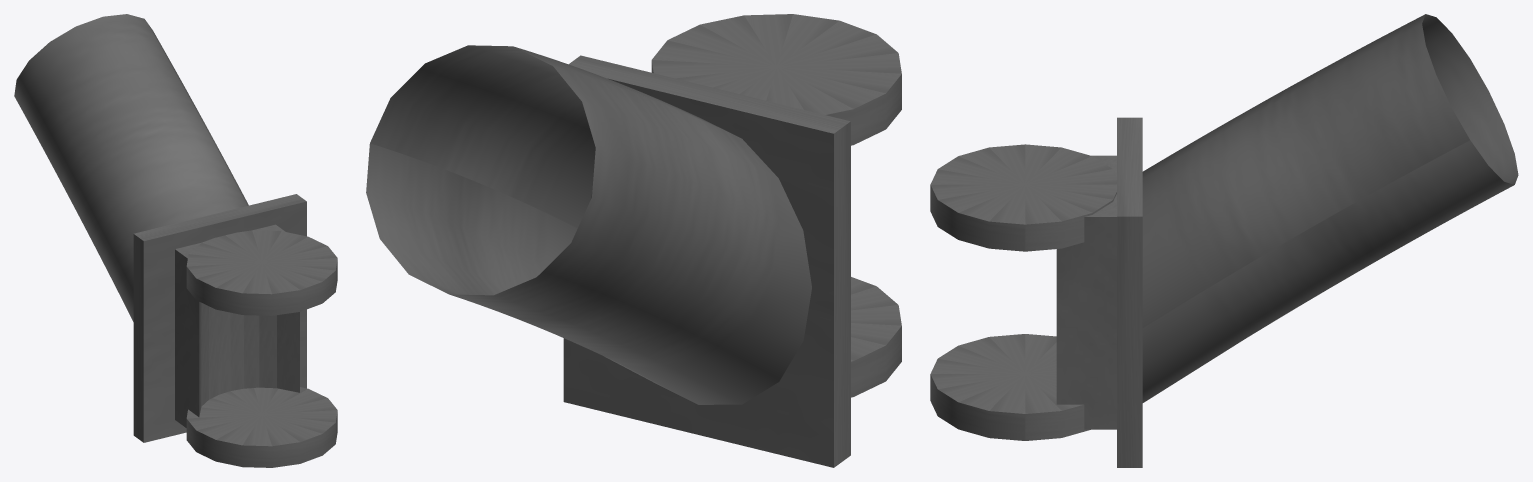
The model's file is mastarmcurve_6x2_c0_thin.obj.
The picture shows the model from 3 angles, left to right: view 1: azimuth 30°, elevation 25°; view 2: azimuth 150°, elevation 25°; view 3: azimuth 270°, elevation 25°; orthographic projection. The views are drawn at different scales.
Visible parts, largest first — view 1: mastarm_6x2_c0_thin; view 2: mastarm_6x2_c0_thin; view 3: mastarm_6x2_c0_thin.
Part boxes in pixels (x1,y1,x2,y2): mastarm_6x2_c0_thin: (14,14,337,467); mastarm_6x2_c0_thin: (366,14,901,467); mastarm_6x2_c0_thin: (930,14,1518,467).
Bounding box in the file's own units: 0.6875 × 1.28 × 1.72.
